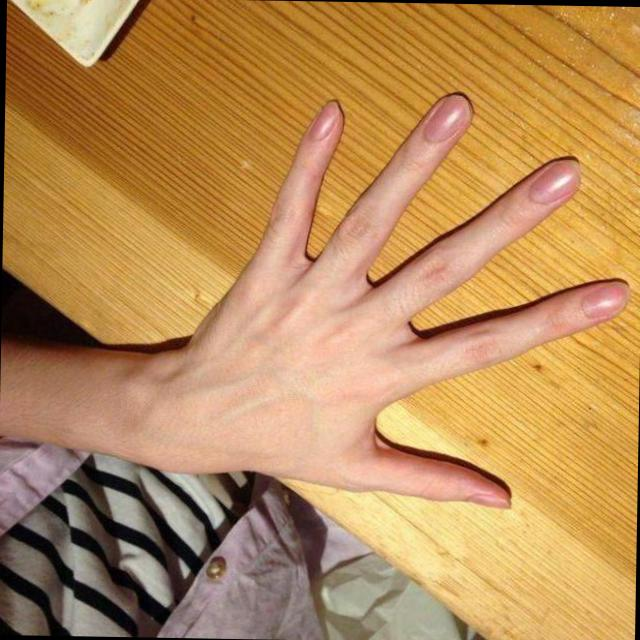Nail: (421, 94, 469, 141), (528, 162, 579, 203), (579, 283, 627, 317), (308, 99, 339, 138), (466, 493, 510, 508)
